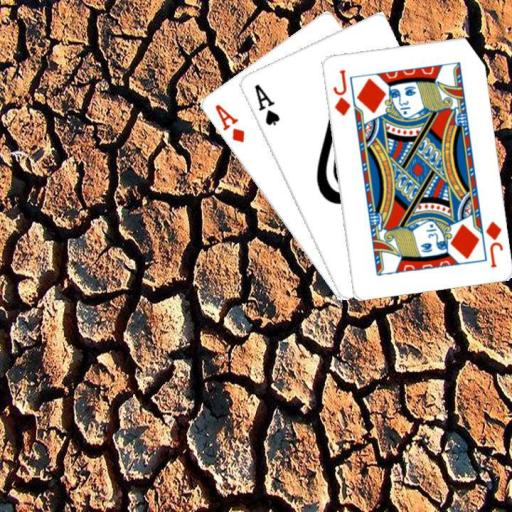AD: (211, 101, 246, 145)
AS: (250, 81, 281, 127)
JD: (329, 66, 352, 117), (482, 218, 504, 269)
